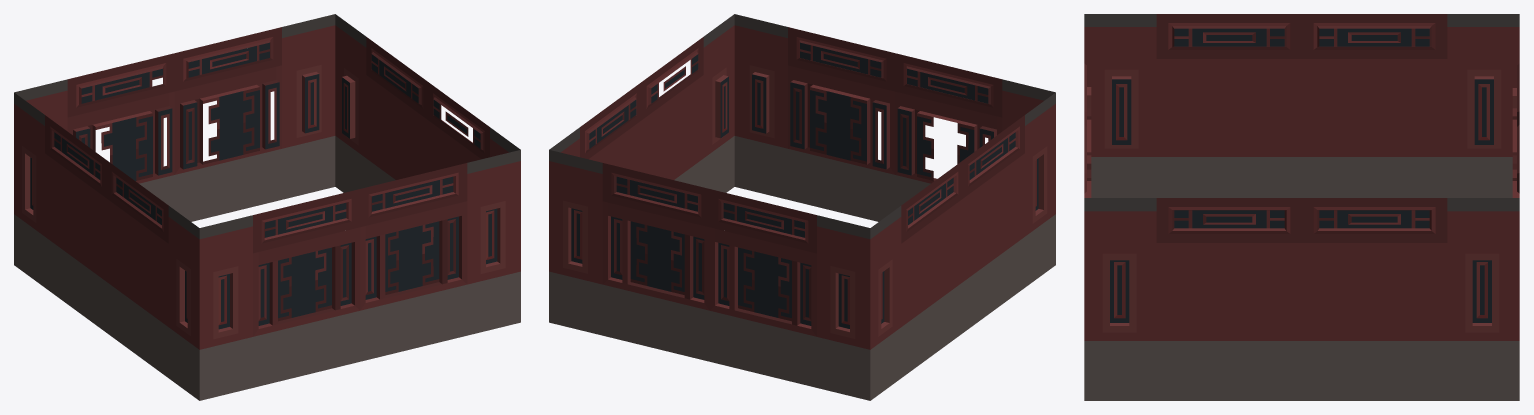
The model's file is StackA-Sm_B.fbx.
The picture shows the model from 3 angles, left to right: view 1: azimuth 30°, elevation 25°; view 2: azimuth 150°, elevation 25°; view 3: azimuth 270°, elevation 25°; orthographic projection. The views are drawn at different scales.
Visible parts, largest first — view 1: StackA-Sm_B; view 2: StackA-Sm_B; view 3: StackA-Sm_B.
Part boxes in pixels (x1,y1,x2,y2): StackA-Sm_B: (14,14,520,400); StackA-Sm_B: (549,14,1055,400); StackA-Sm_B: (1084,14,1519,400).
Bounding box in the file's own units: 750 × 386 × 750.
